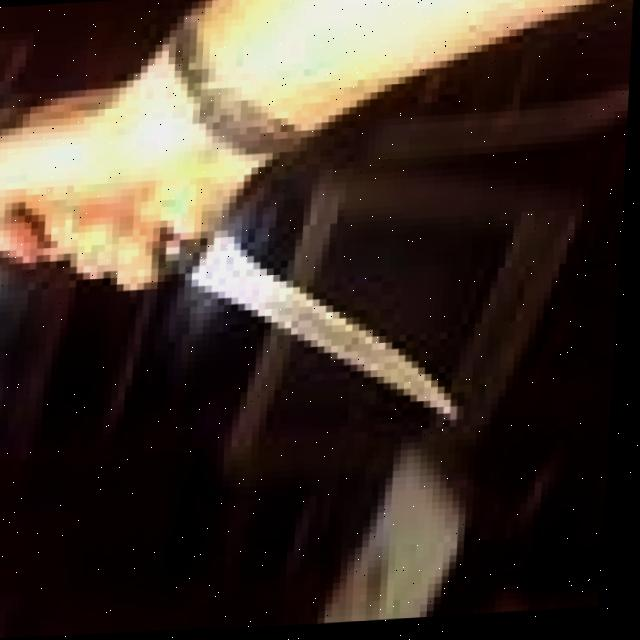knife: (182, 226, 484, 443)
